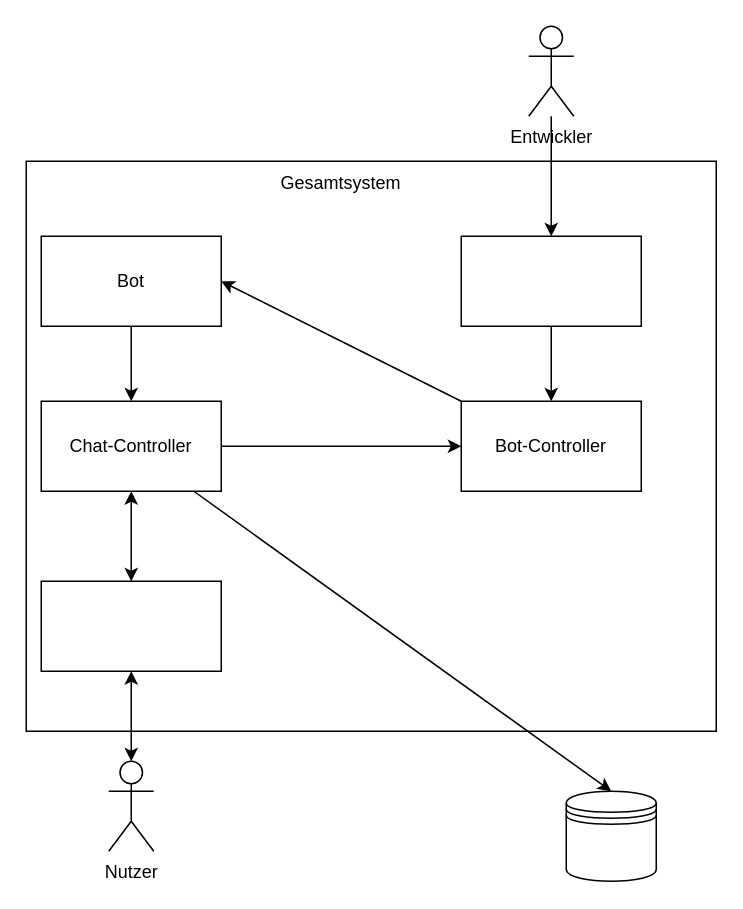
This 743x909 diagram has some shape labels left out. The shapes that lost their labels are listed below. From the top down, each one's centre as x and y in pixels, then its label:
At (x=550, y=280): "Bot-Factory".
At (x=130, y=625): "TUI".
At (x=610, y=835): "DB".
